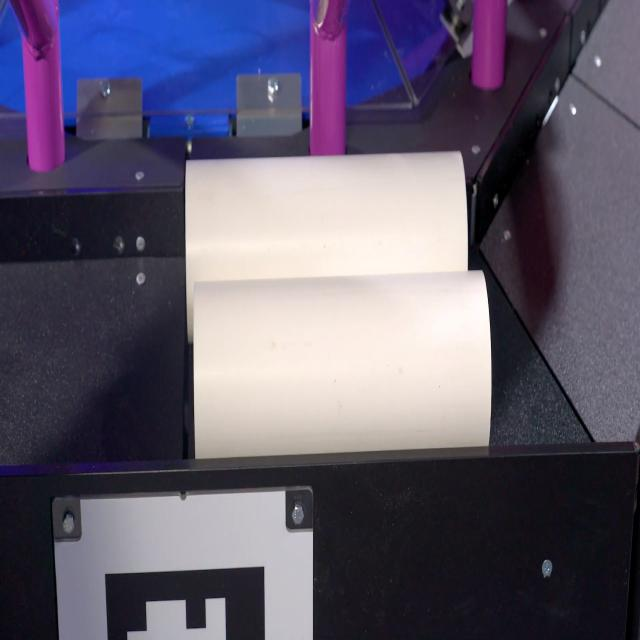Coral: (192, 268, 492, 459), (184, 148, 469, 340)
